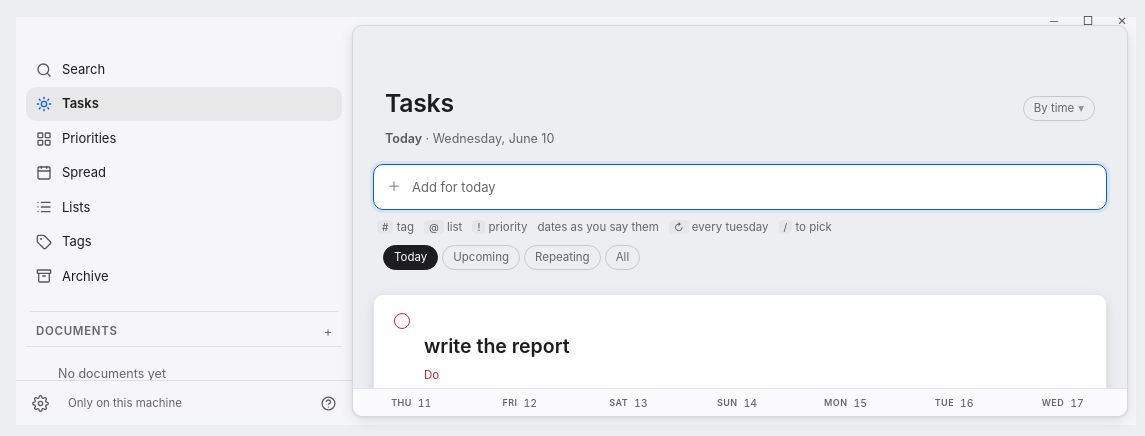
the room the desk keeps for the lanes beside it › keeps no room in the spread: the lane floats over the days instead
Expected: the heading "write the report" is shown, [424,334,570,358]
Click the button "Spread" at (84, 172), box [26,156,342,190]
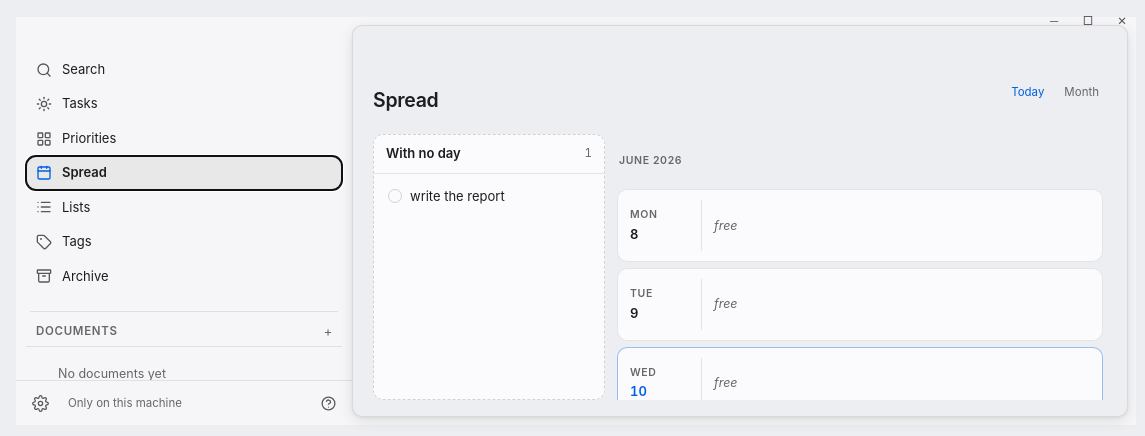
Result: the button "Month" is shown at [1056,79,1107,106]
Click the button "write the report" at (489, 196), box [380,180,598,213]
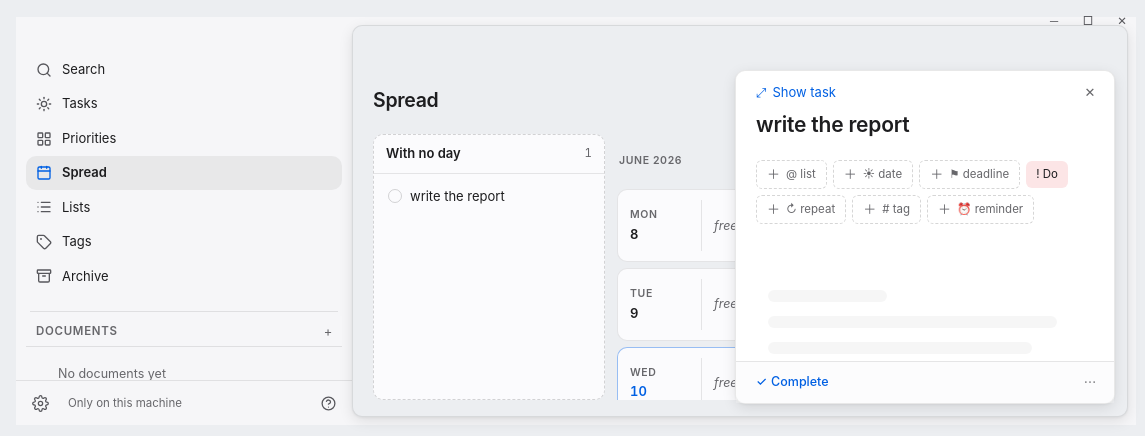
Result: the text box named "Title" is shown at [736,111,1114,140]
